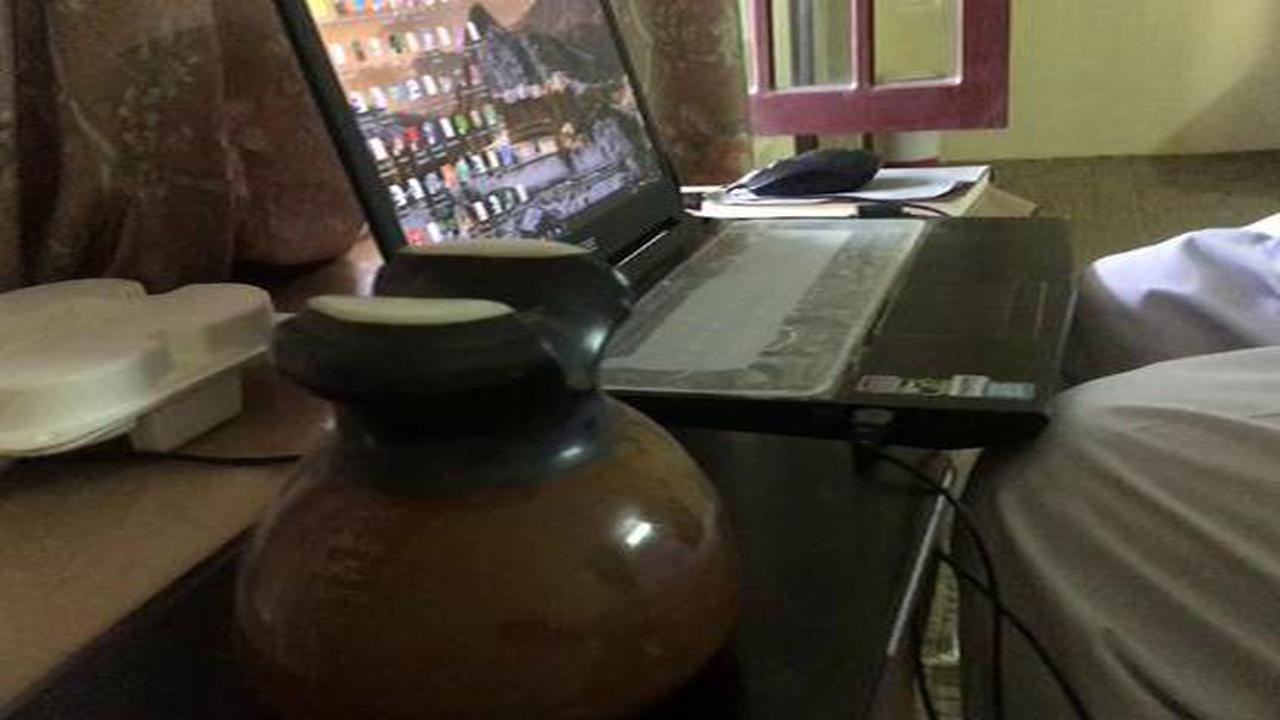insulator_pin: (204, 206, 776, 703)
